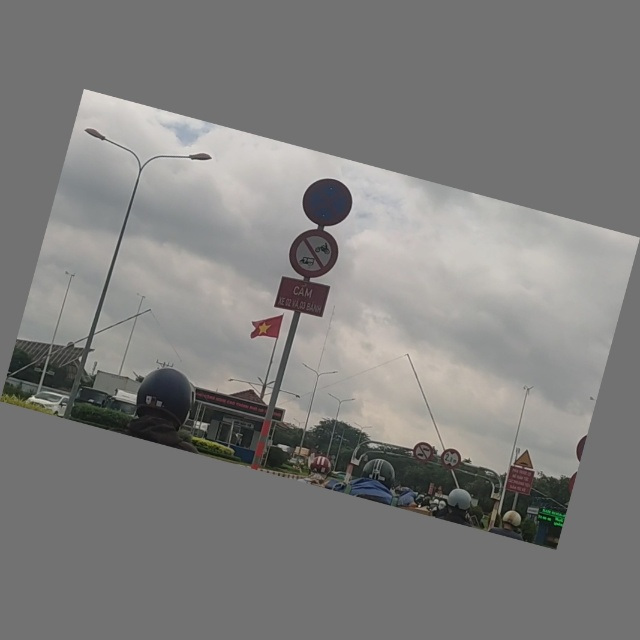P.107: (412, 441, 435, 465)
P.111: (285, 224, 344, 284)
P.117*: (438, 447, 465, 473)
P.130: (297, 173, 358, 231)
W.221b: (513, 448, 539, 472)
